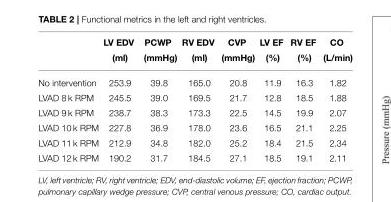table: (37, 37, 351, 162)
table column: (37, 37, 100, 162), (137, 37, 178, 162), (178, 37, 217, 162), (217, 37, 256, 162), (100, 37, 137, 162), (285, 37, 318, 162), (318, 37, 351, 162), (256, 37, 285, 162)
table column header: (37, 37, 351, 70)
table row: (37, 49, 351, 70), (37, 70, 351, 90), (37, 90, 351, 105), (37, 105, 351, 120), (37, 120, 351, 135), (37, 135, 351, 150), (37, 37, 351, 49), (37, 150, 351, 162)
table spanning cell: (137, 37, 178, 70), (178, 37, 217, 70), (217, 37, 256, 70), (100, 37, 137, 70), (285, 37, 318, 70), (318, 37, 351, 70), (256, 37, 285, 70)
